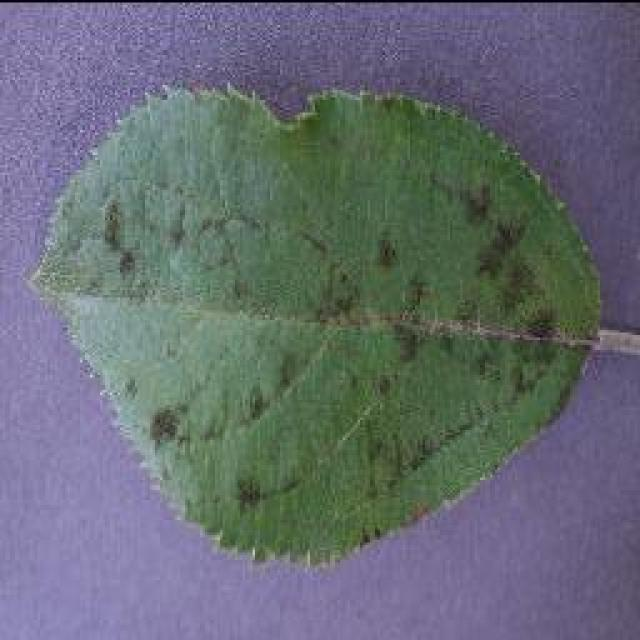apple scab disease: (25, 78, 605, 570)
